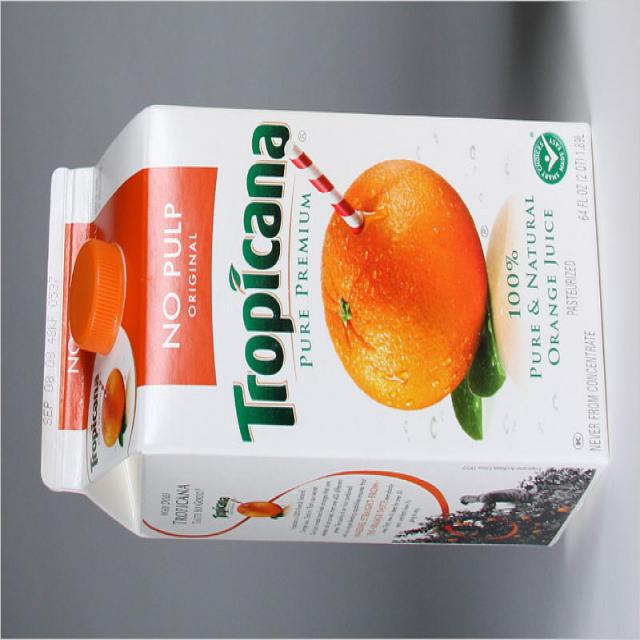non_white_jug: (34, 99, 613, 553)
